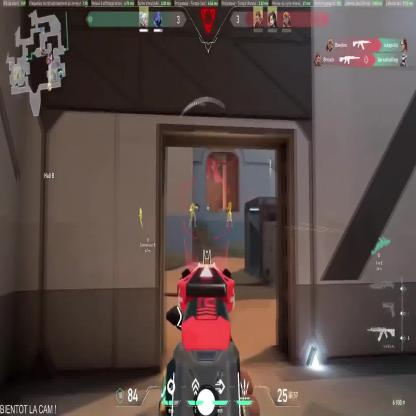enemy: (189, 202, 198, 229), (226, 202, 233, 228), (139, 206, 142, 227)
enemy_head: (228, 202, 231, 207), (139, 207, 142, 211), (192, 202, 194, 206)
